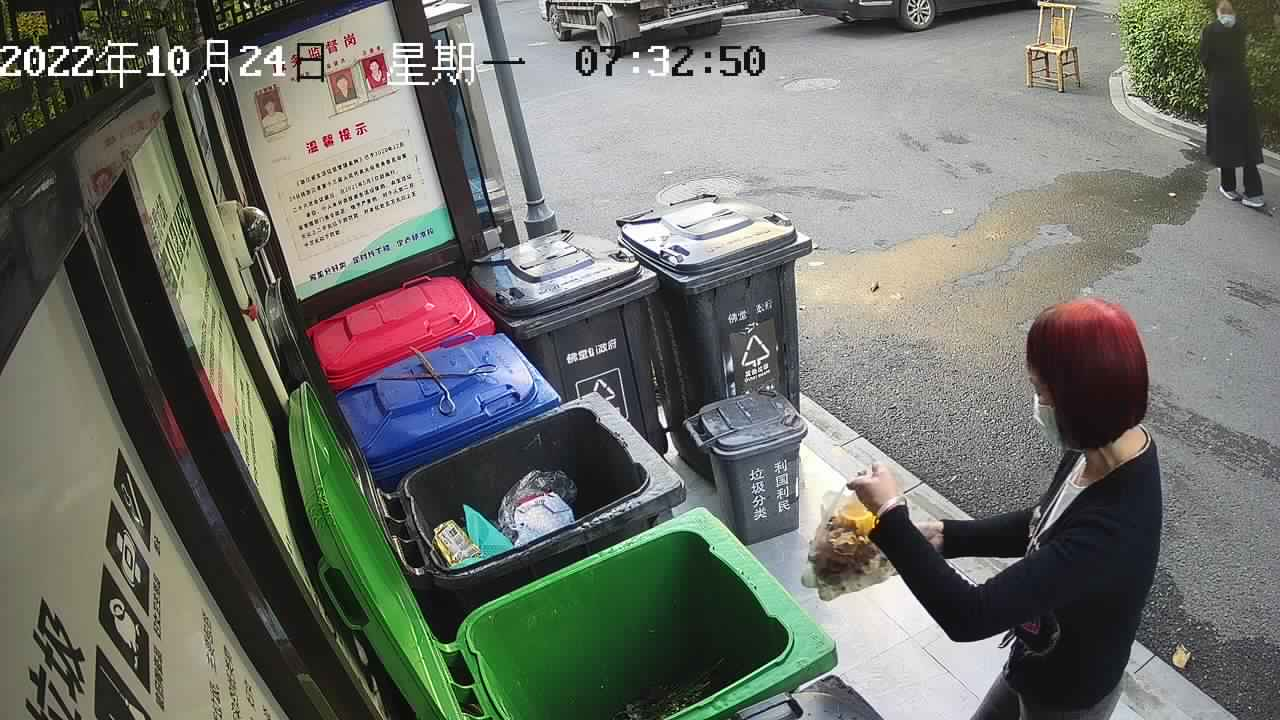garbage-bag: (796, 475, 908, 605)
person: (839, 288, 1173, 720), (1191, 1, 1269, 216)
